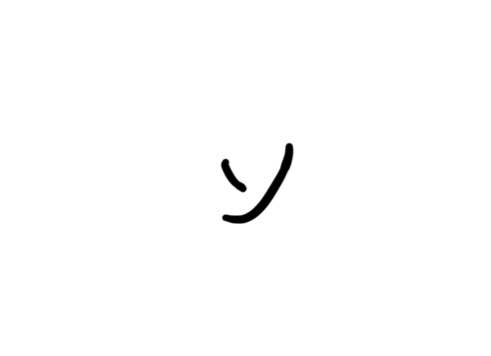n: (202, 140, 298, 230)
